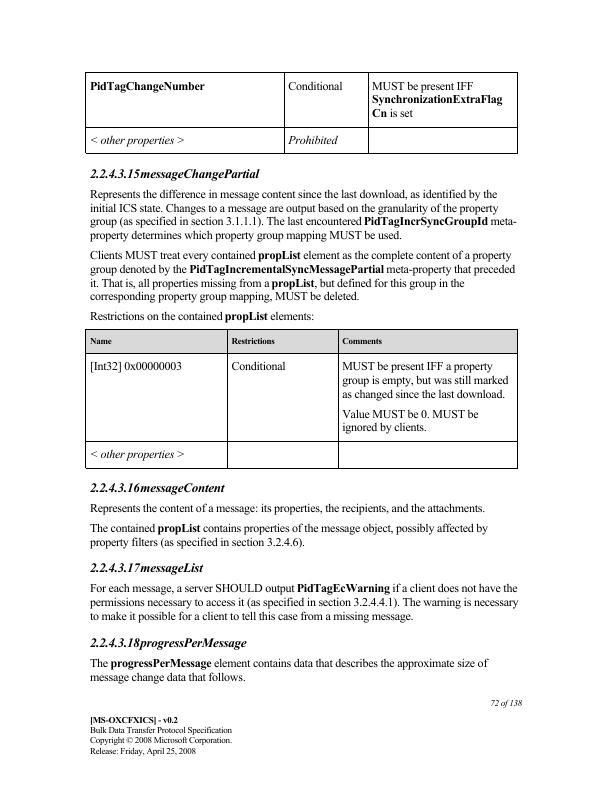table: (83, 328, 519, 471), (83, 70, 520, 159)
text: (88, 248, 517, 302), (86, 189, 519, 241), (87, 582, 520, 624), (87, 656, 492, 684), (87, 523, 490, 548), (86, 712, 235, 758), (88, 503, 485, 516), (88, 310, 318, 323), (87, 165, 260, 182), (87, 636, 253, 651), (88, 481, 228, 495), (87, 561, 206, 576), (487, 696, 527, 711)
